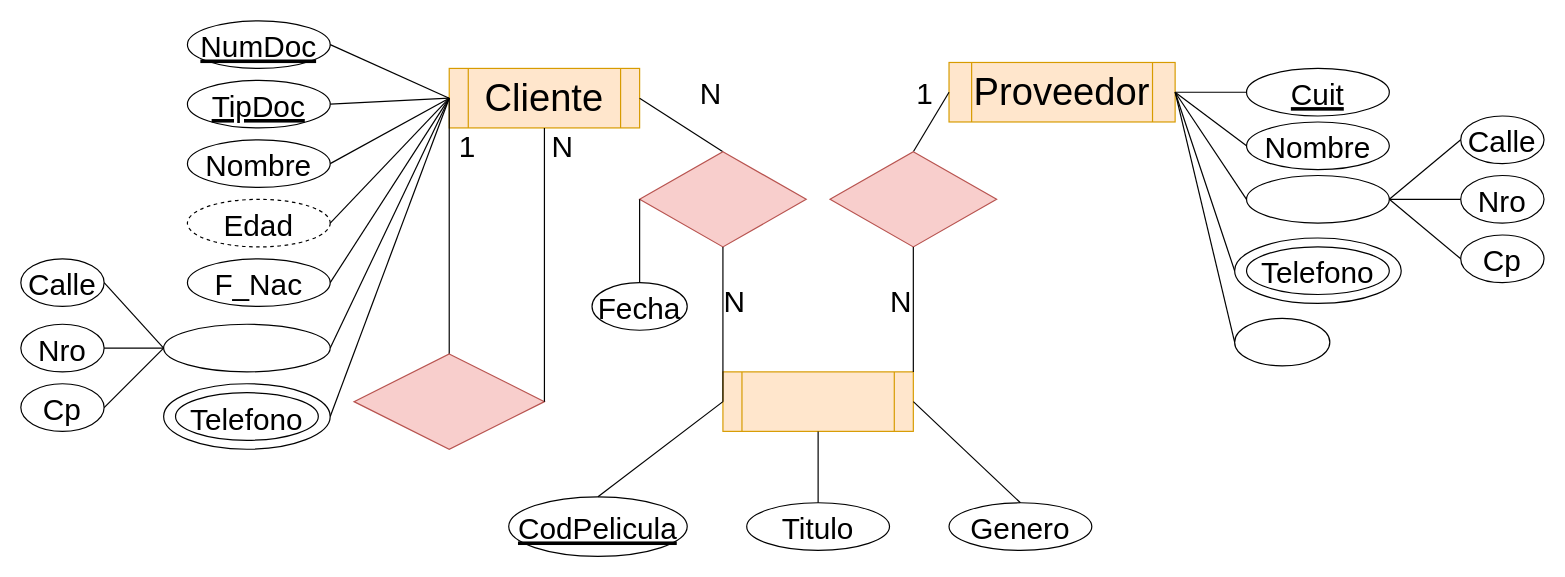
Some shapes in this 1565 by 577 pixel diagram are drawn without their labels. The shapes that lost their labels are listed below. From the top down, each one's box as (x1, y1, x2, y2) in pixels, then its label:
(638, 151, 806, 247): Alquila
(829, 151, 997, 247): provee
(1245, 174, 1389, 223): Domicilio
(162, 323, 330, 372): Domiciolio
(1233, 317, 1330, 366): Gmail
(353, 353, 544, 449): Es titular de
(722, 371, 913, 431): Pelicula
